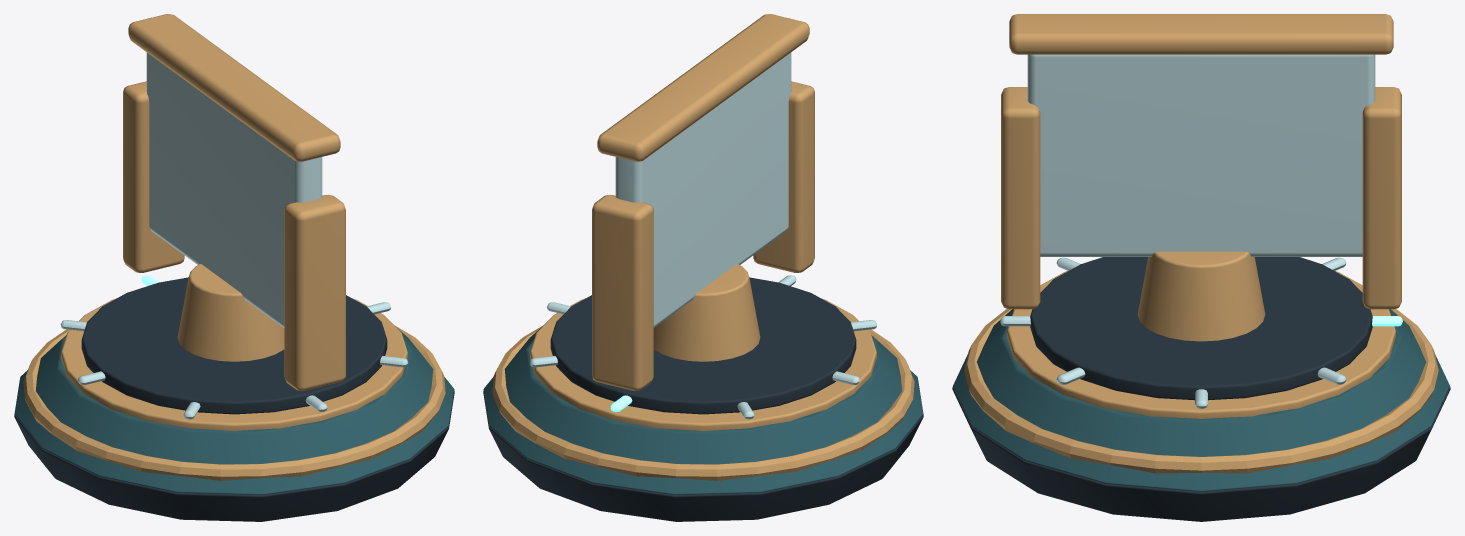
Rendered from dualReflector.glb.
3 views of the same model, side by side, from view 1: azimuth 30°, elevation 25°; view 2: azimuth 150°, elevation 25°; view 3: azimuth 270°, elevation 25° (orthographic). The views are drawn at different scales.
Parts seen in each view (by area): view 1: dualReflector; view 2: dualReflector; view 3: dualReflector.
Boxes of the visible parts, x1,y1,x2,y2 form: dualReflector: (14,14,454,521); dualReflector: (483,14,923,521); dualReflector: (952,14,1450,521).
Size of the model in its own units: 1.08 by 0.956 by 1.08.
